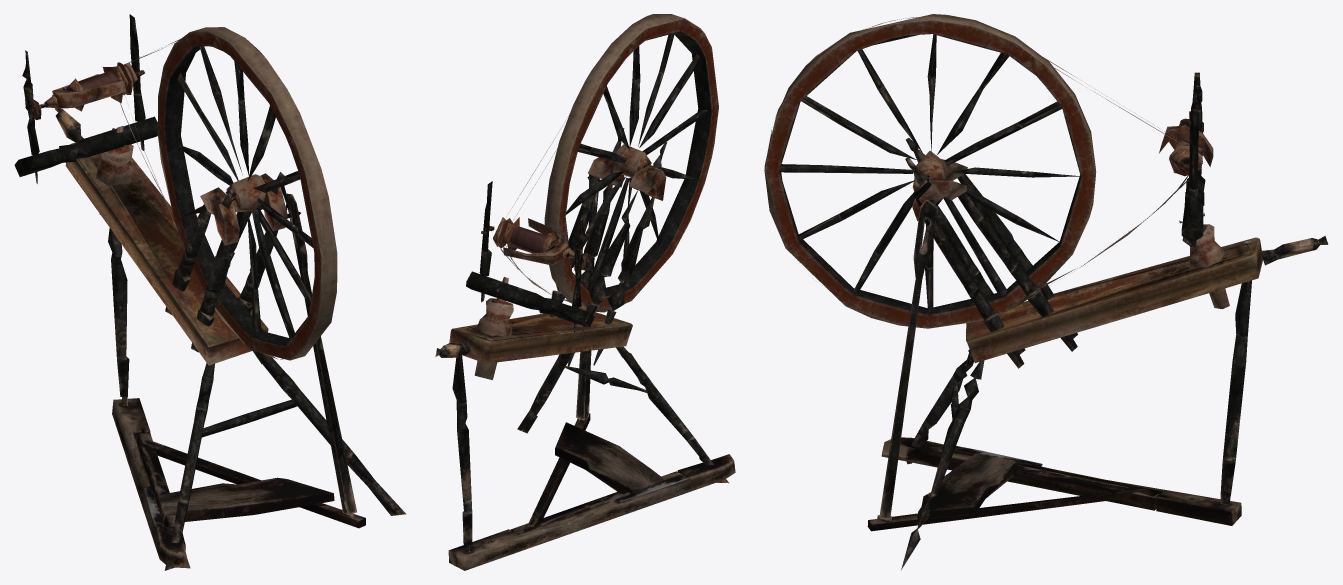
File: spinning_wheel.glb
3 views of the same model, side by side, from view 1: azimuth 30°, elevation 25°; view 2: azimuth 150°, elevation 25°; view 3: azimuth 270°, elevation 25° (orthographic). The views are drawn at different scales.
Visible parts, largest first — view 1: spinning_wheel_01; view 2: spinning_wheel_01; view 3: spinning_wheel_01.
Boxes of the visible parts, <box> form: spinning_wheel_01: <box>14,14,406,570</box>; spinning_wheel_01: <box>435,14,735,570</box>; spinning_wheel_01: <box>764,14,1328,570</box>.
Size of the model in its own units: 0.4868 by 0.9655 by 1.02.
1 material, 1 textured.
